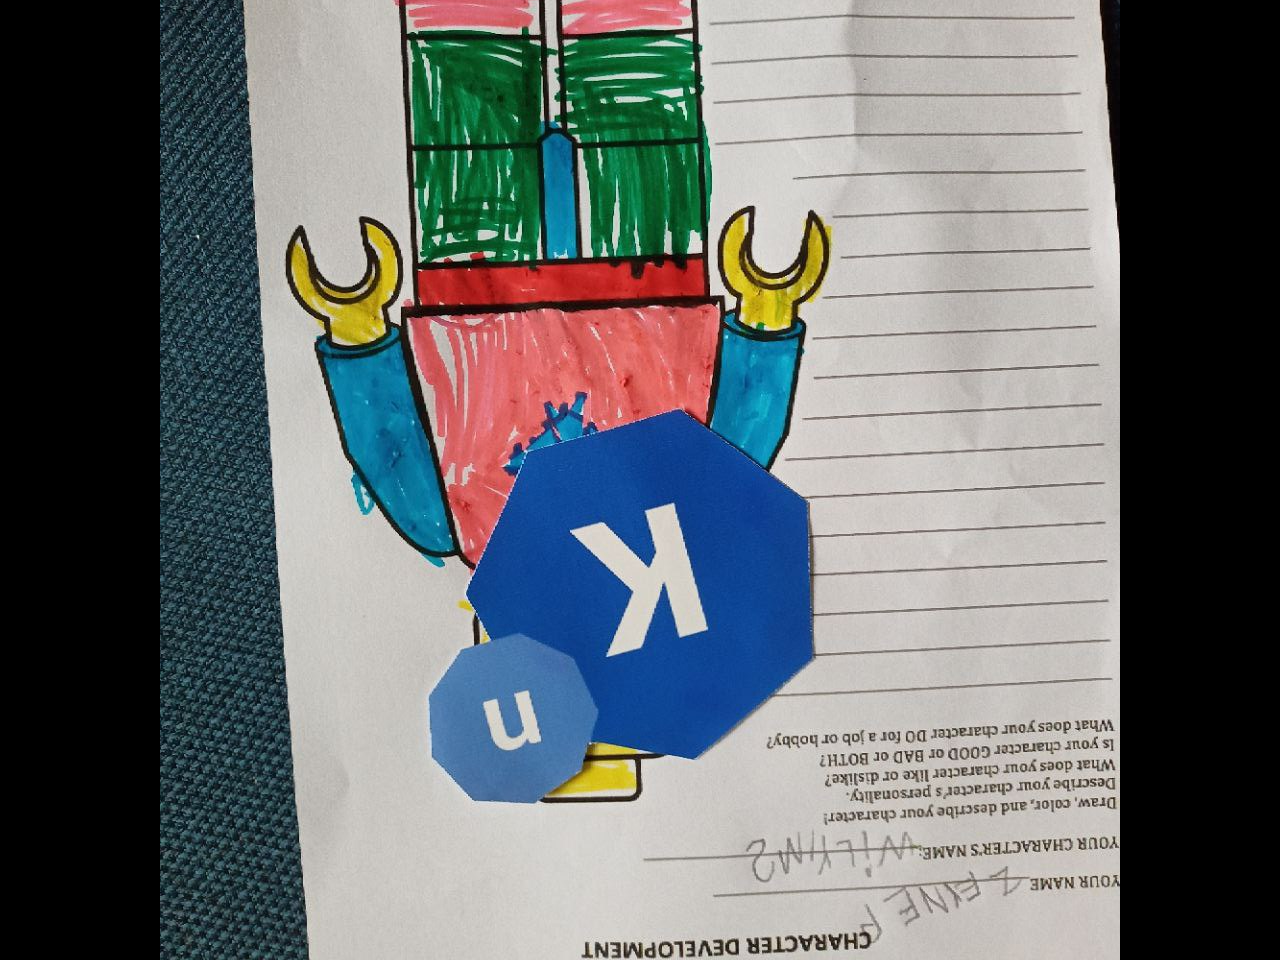knative: (424, 408, 819, 806)
